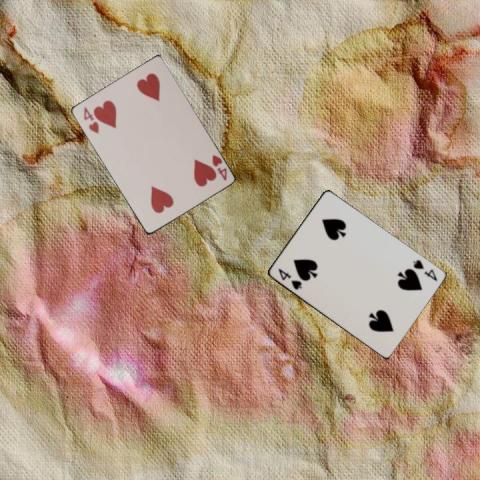4h: (80, 104, 100, 136), (209, 152, 228, 182)
4s: (409, 256, 438, 282), (275, 266, 303, 292)
